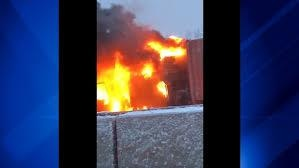fire: (96, 44, 177, 112), (148, 40, 187, 59)
